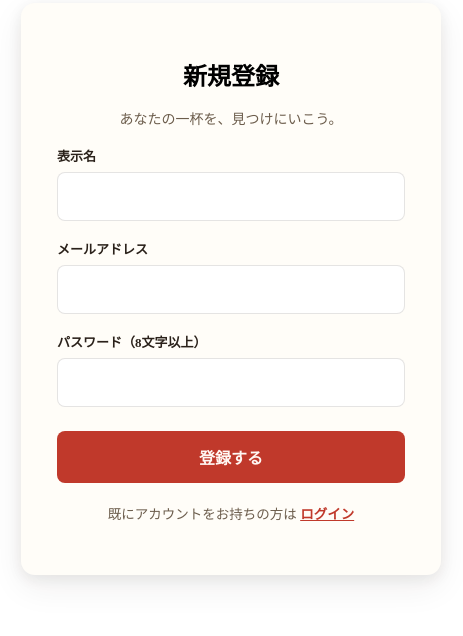
Test: RegisterPage › メール重複などのエラーでメッセージを表示する
This screenshot has width=463, height=636.
Type "新規太郎" into the field labelled "表示名". click: [231, 197]
box: [57,172,405,221]
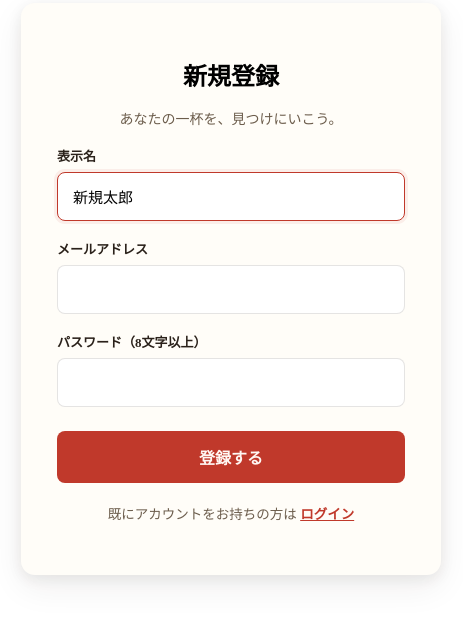
Type "dup@example.com" into the field labelled "メールアドレス". click: [231, 290]
box: [57,265,405,314]
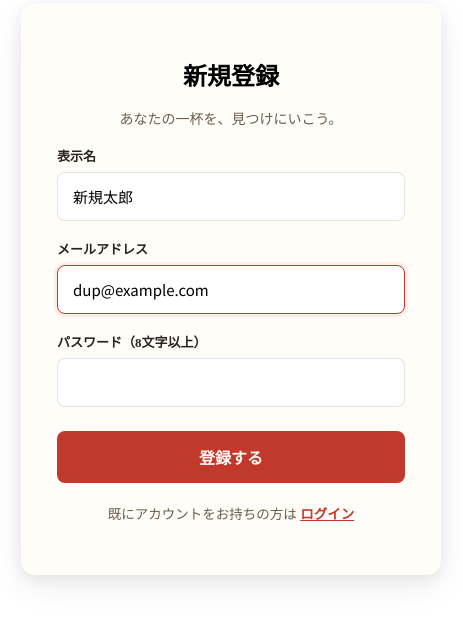
Type "password123" into the password field labelled "パスワード（8文字以上）". click: [231, 383]
box: [57,358,405,407]
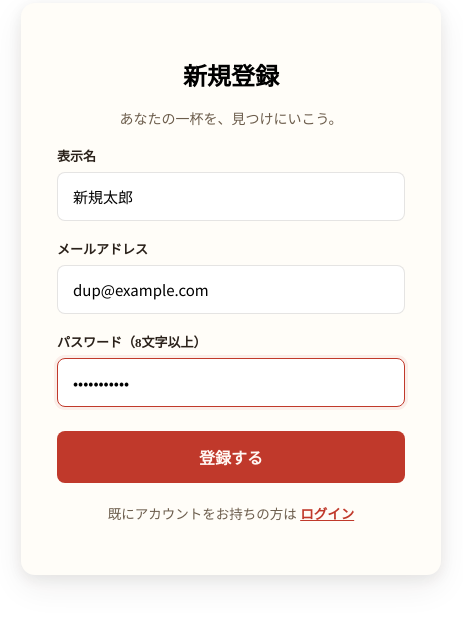
Click the button "登録する". click: [231, 457]
box: [57,431,405,483]
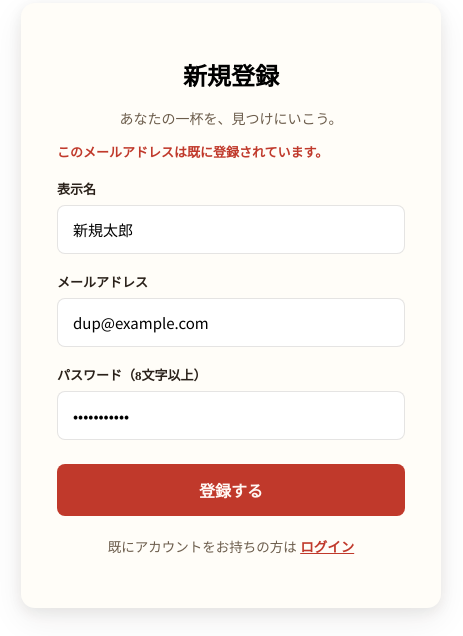
Expected: the text "このメールアドレスは既に登録されています。" is shown, [57,145,328,160]
